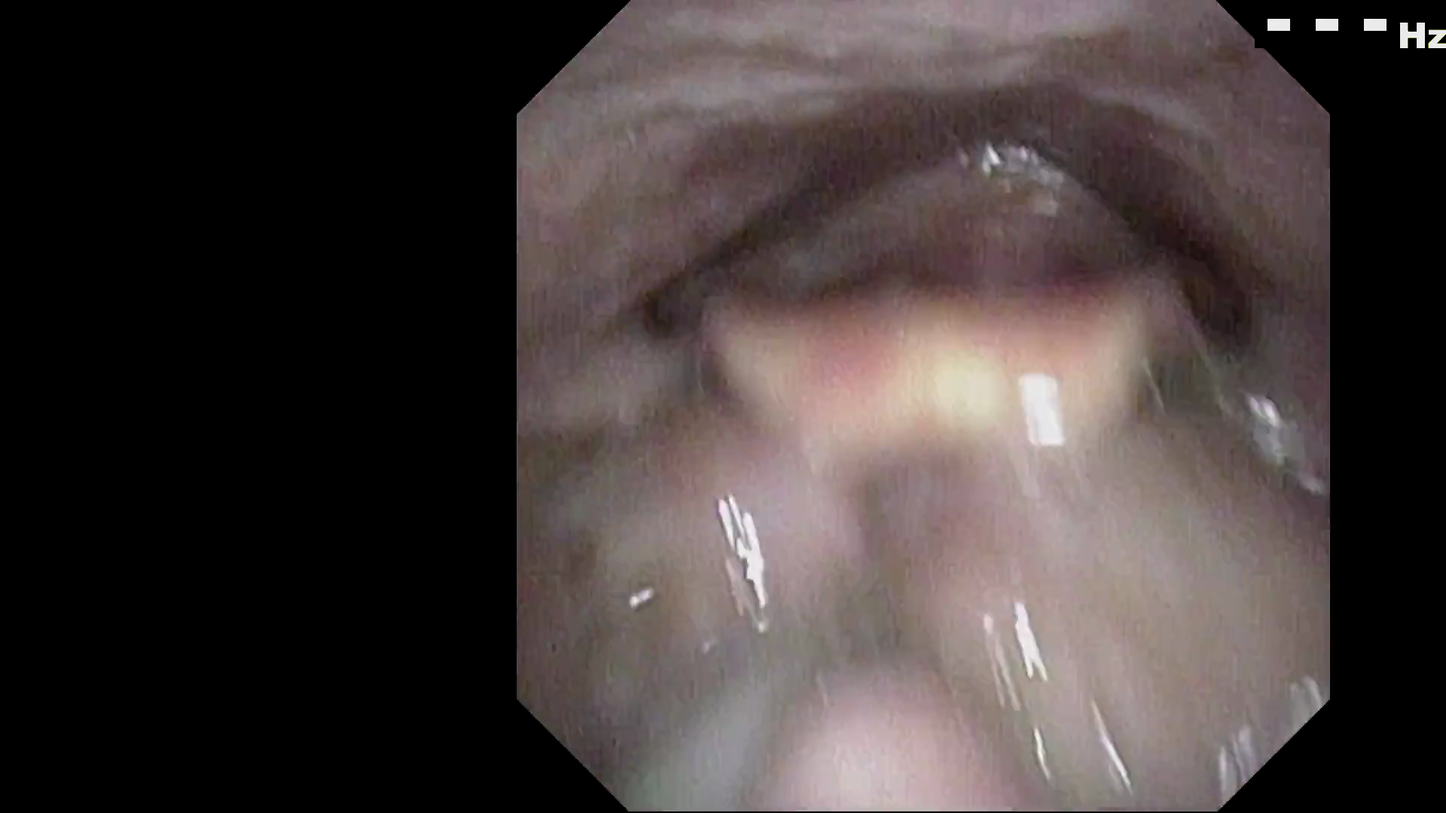epiglottis: (645, 229, 1225, 409)
trachea: (962, 390, 1056, 444)
